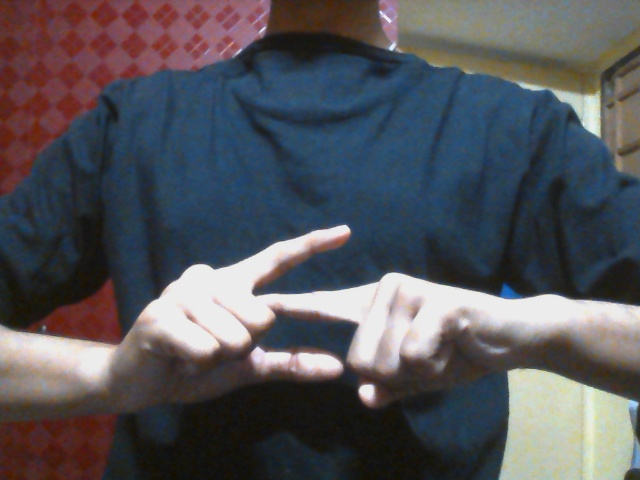E: (122, 223, 496, 412)
